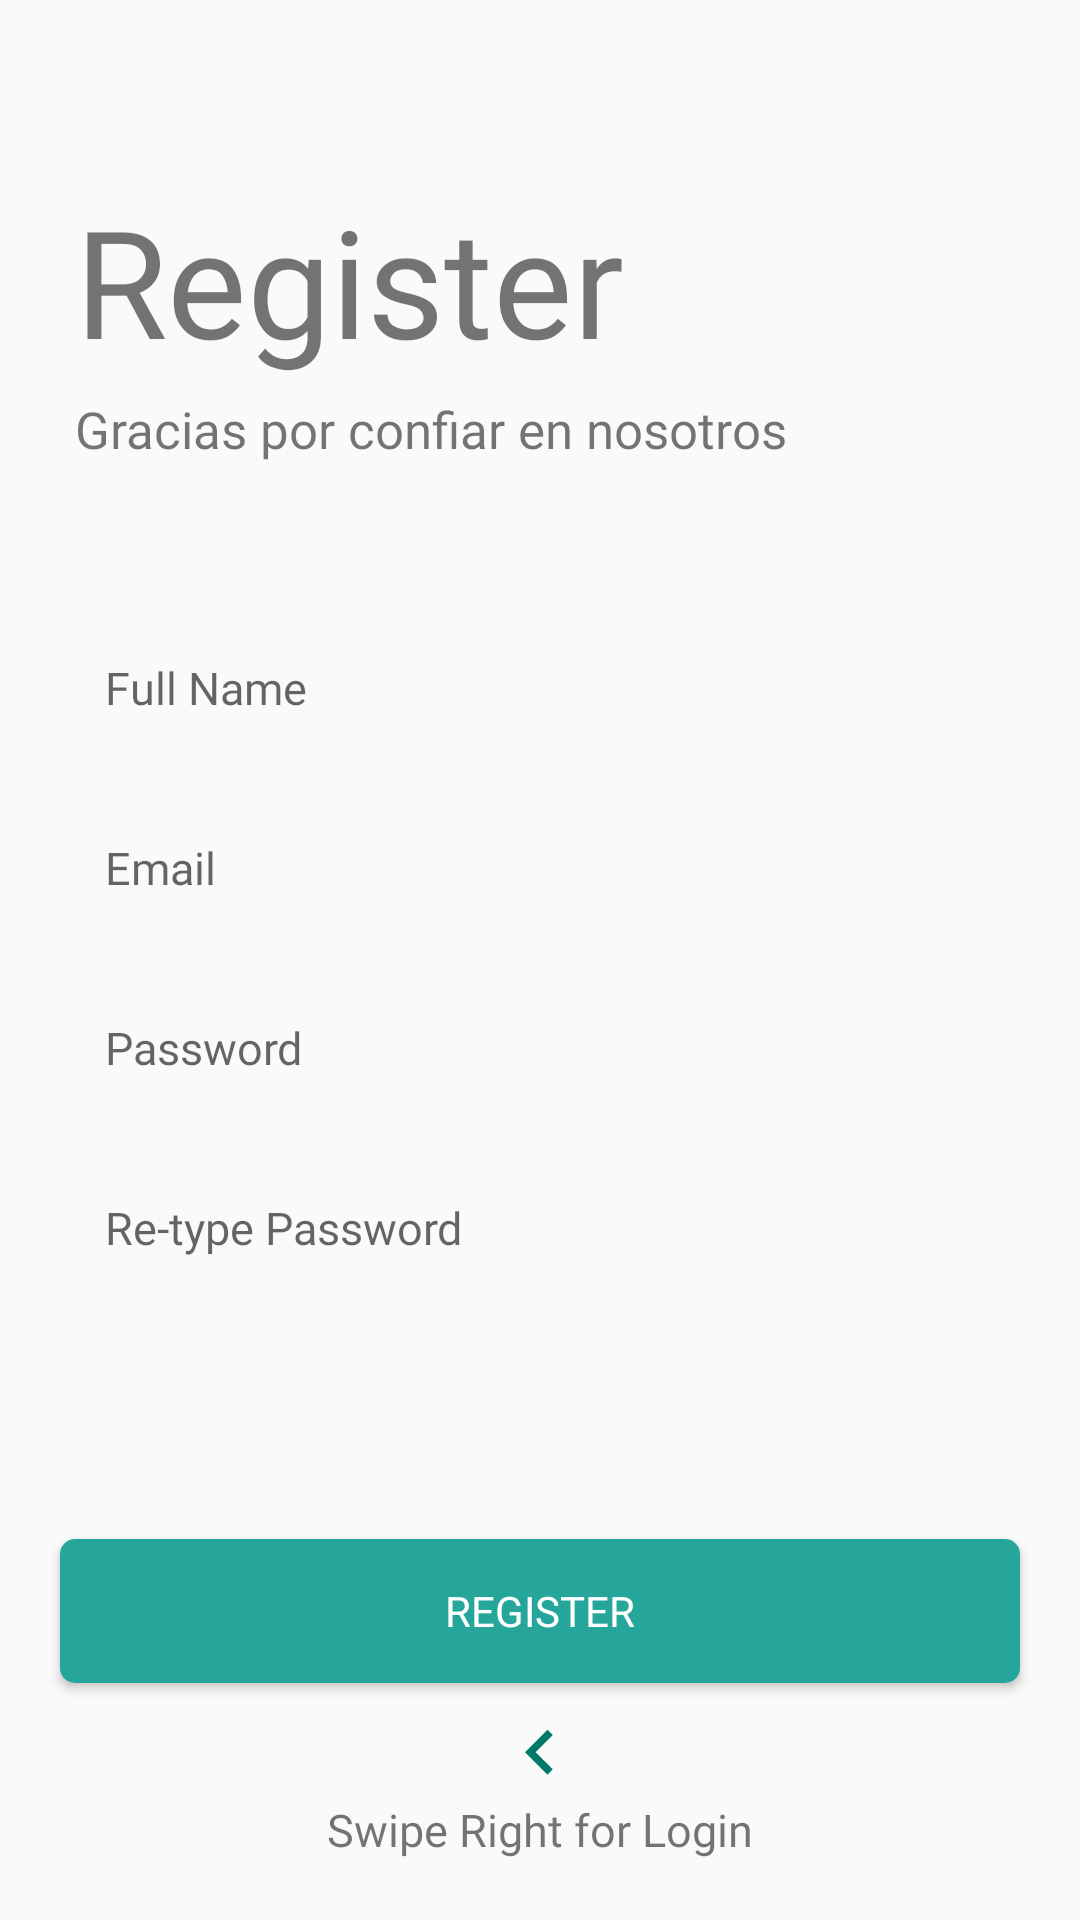

Screen size 1080w x 1920h. Icon name, then its box in pixels as (x1, y1, x2, y2):
arrow left: (525, 1730, 553, 1775)
